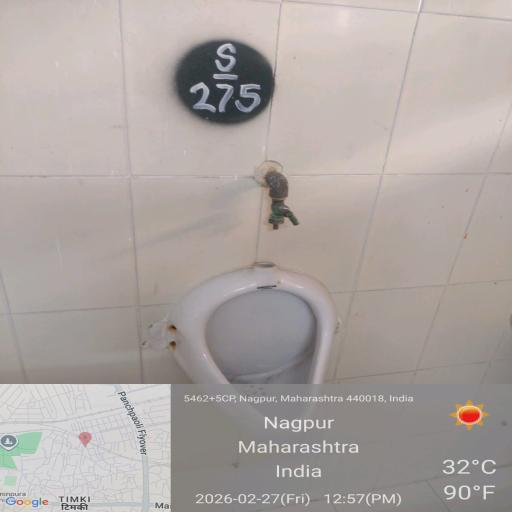clean_floor: (0, 23, 490, 257)
partial_dirty_urinal: (171, 275, 338, 384)
